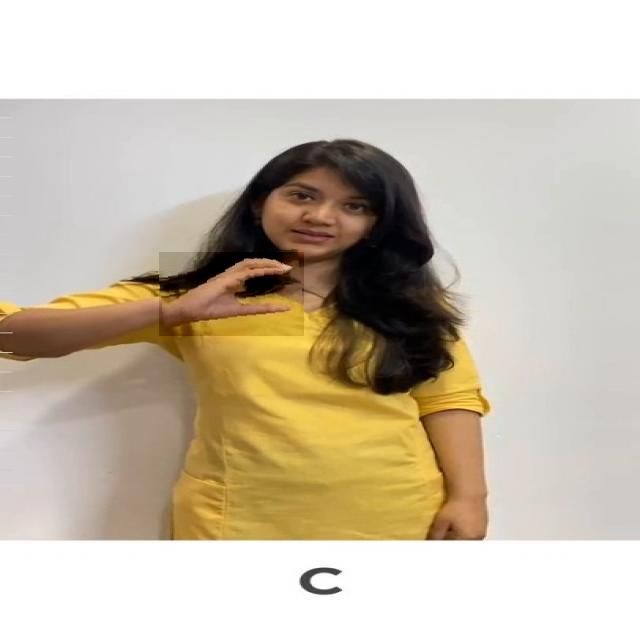C: (159, 252, 304, 336)
